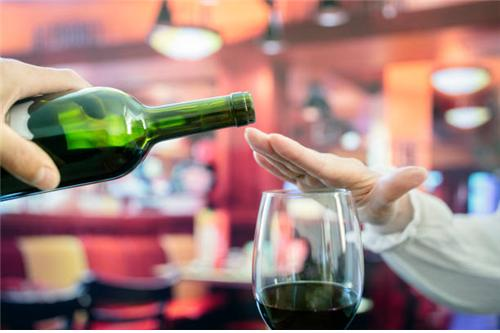alcohol: (0, 87, 256, 201), (252, 187, 361, 329)
